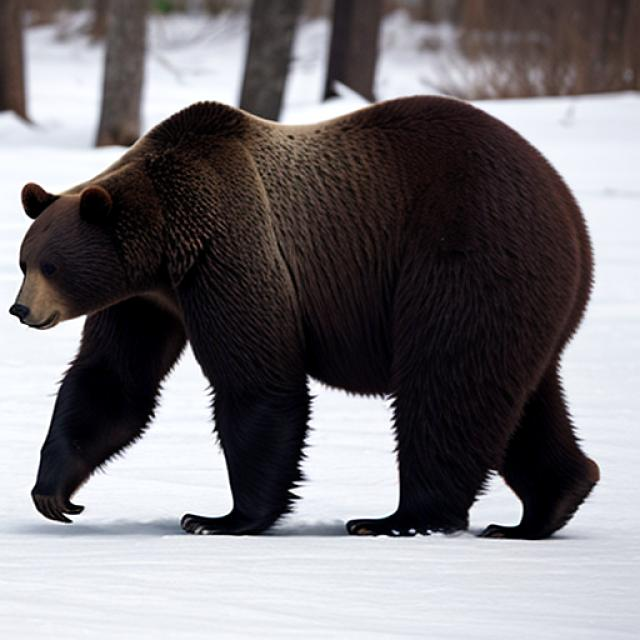bear: (10, 166, 140, 342)
